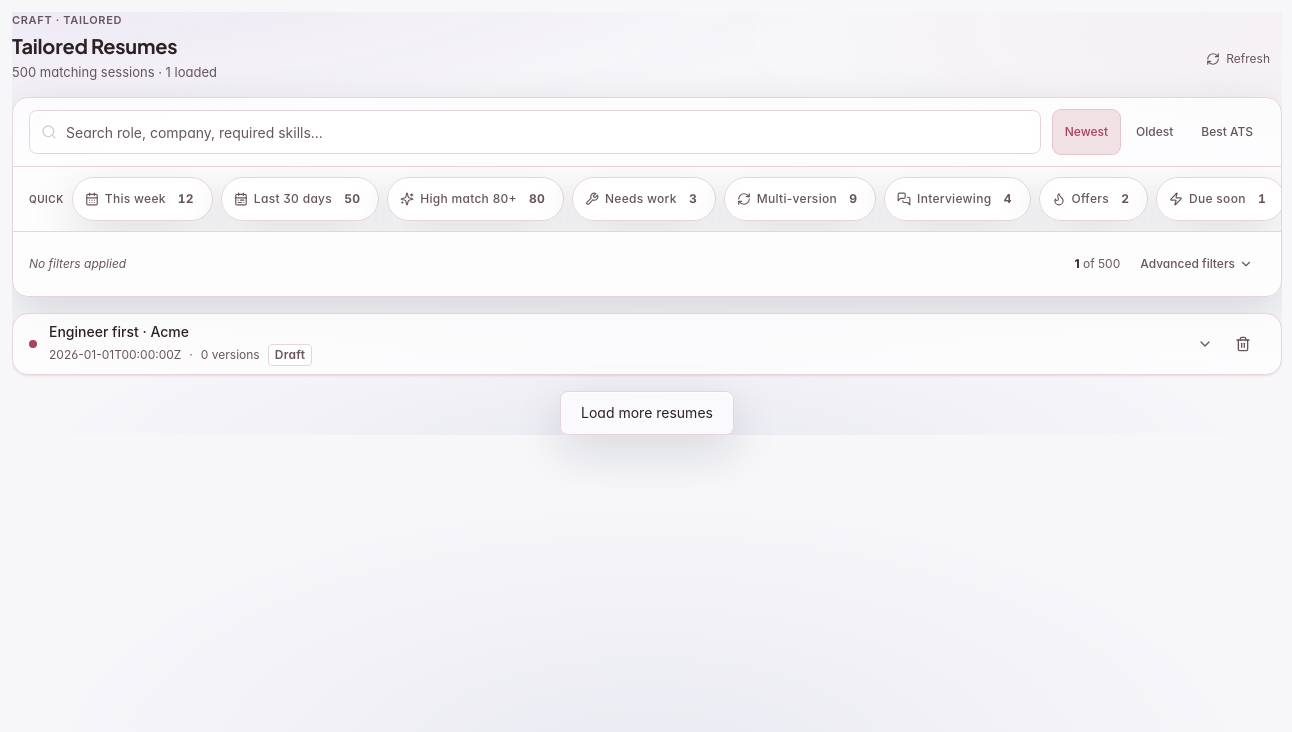
Test: on-demand tailored history › loads one page, shows server counts, and waits for Load more
The width and height of the screenshot is (1292, 732).
Expected: the text "Engineer first · Acme" is shown, left=49, top=323, right=189, bottom=340
Expected: the text "500 matching sessions · 1 loaded" is shown, left=12, top=62, right=217, bottom=81
What coordinates should you click on to do the following:
click the button "Load more resumes"
I would click on:
 (647, 413)
Its box is left=560, top=391, right=734, bottom=435.
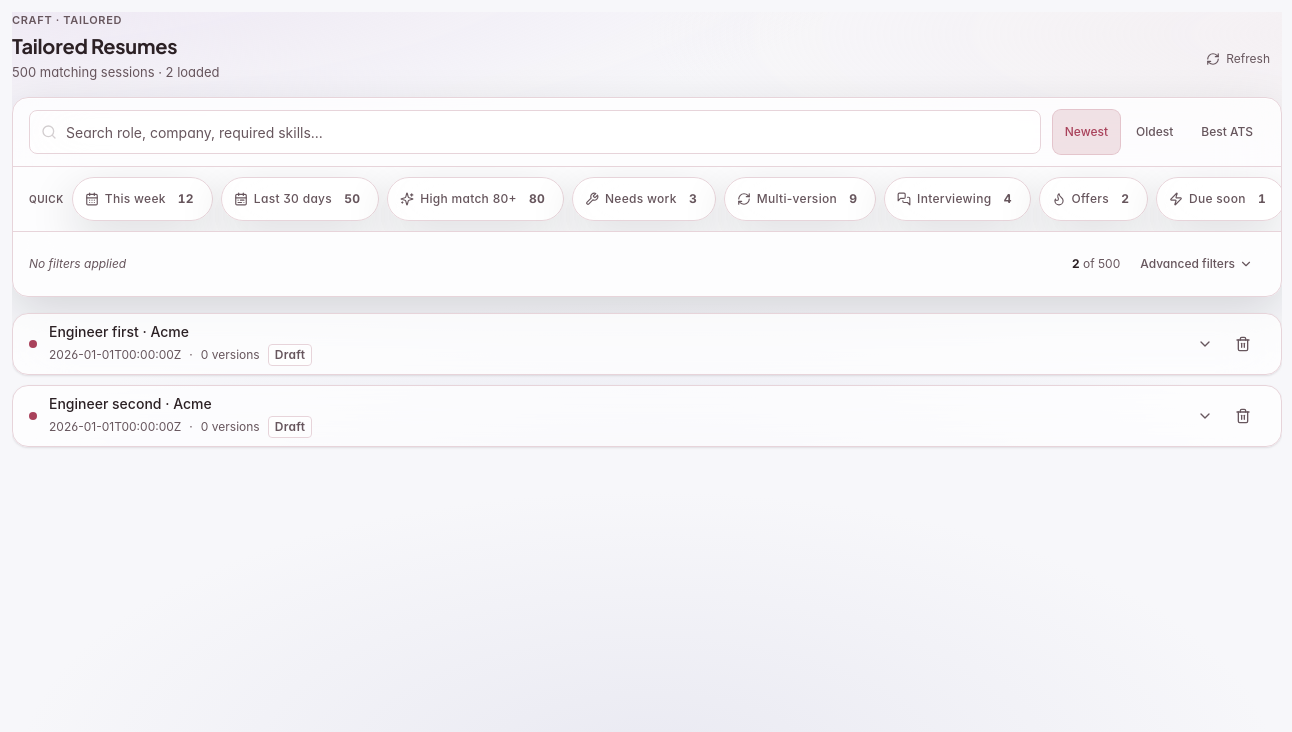
Expected: the text "Engineer first · Acme" is shown, left=49, top=323, right=189, bottom=340
Expected: the text "Engineer second · Acme" is shown, left=49, top=395, right=212, bottom=412
Expected: the button "Load more resumes" is gone
